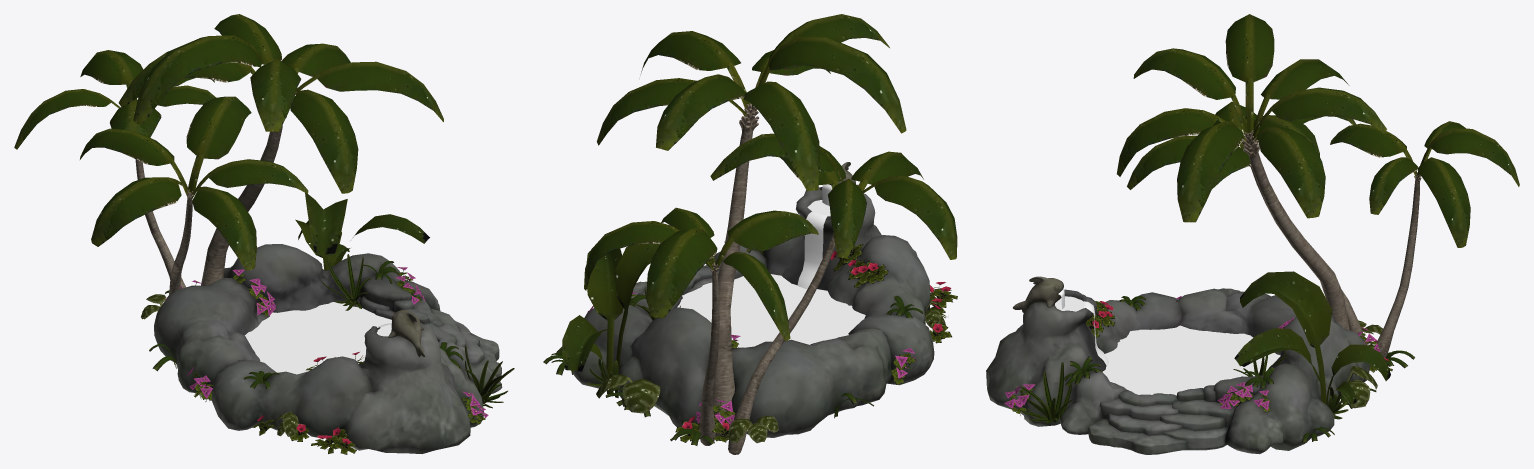
The model's file is SM_PalSpaLarge_12a9ee.glb.
The picture shows the model from 3 angles, left to right: view 1: azimuth 30°, elevation 25°; view 2: azimuth 150°, elevation 25°; view 3: azimuth 270°, elevation 25°; orthographic projection. The views are drawn at different scales.
Size of the model in its own units: 8.41 by 7.96 by 11.46.
Materials: 4 (2 with a texture image).
